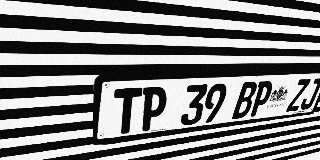3: (180, 84, 209, 126)
9: (200, 83, 229, 123)
B: (231, 82, 259, 119)
J: (299, 78, 320, 110)
P: (139, 86, 169, 132), (248, 81, 275, 117)
T: (112, 88, 143, 135)
Z: (286, 79, 311, 112)
